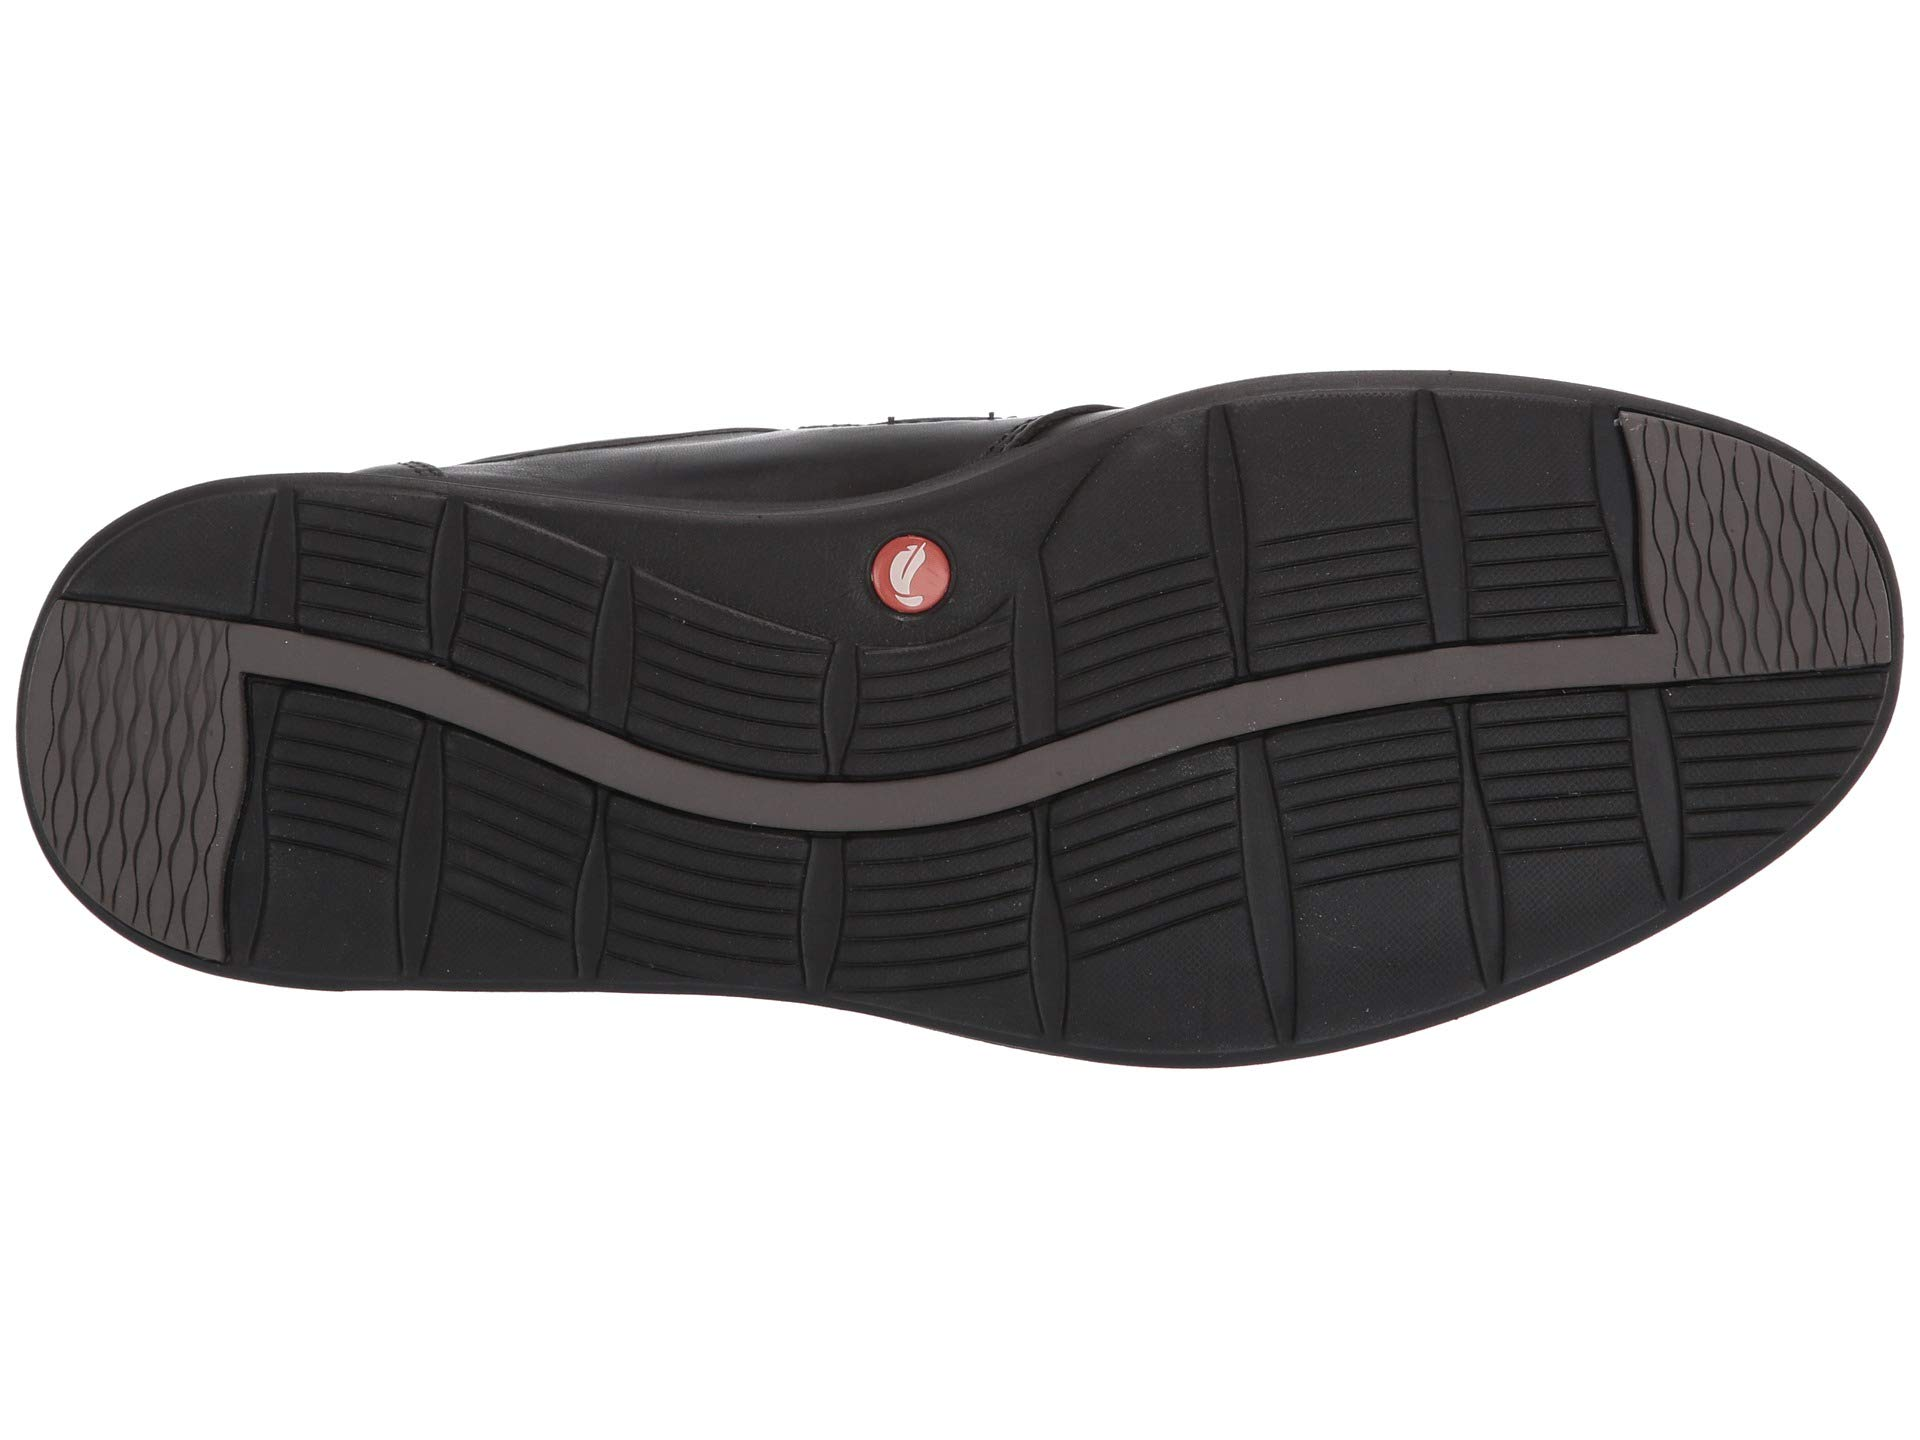line: (661, 601, 819, 762), (1293, 715, 1457, 871), (1076, 787, 1228, 950), (1683, 678, 1822, 812)
